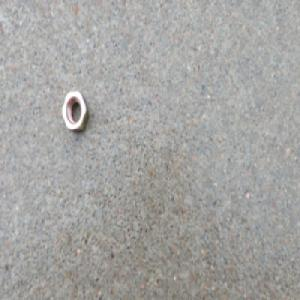Nut: (61, 88, 88, 133)
